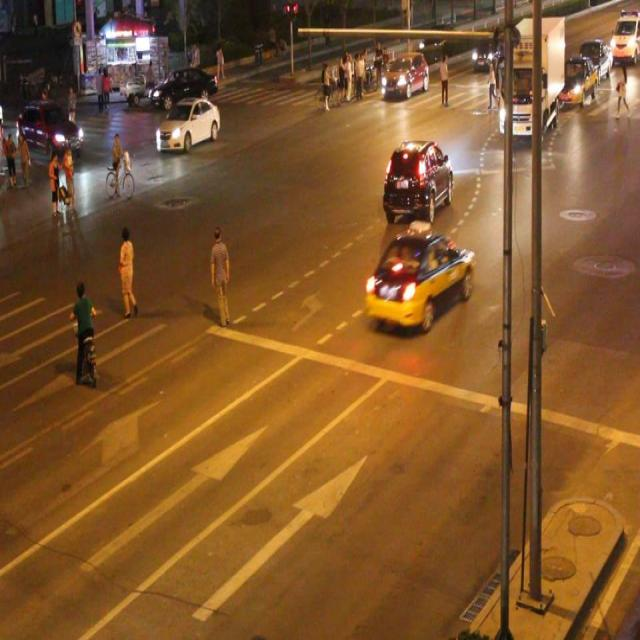bus: (497, 14, 564, 139)
car: (364, 225, 471, 328), (382, 143, 452, 216), (18, 102, 84, 158), (155, 98, 220, 151), (149, 65, 218, 103), (379, 51, 428, 97)
